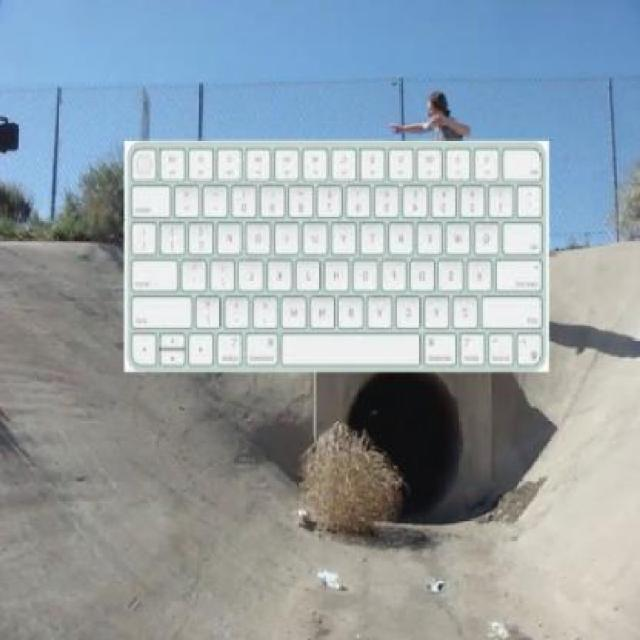keyboard: (120, 145, 558, 383)
